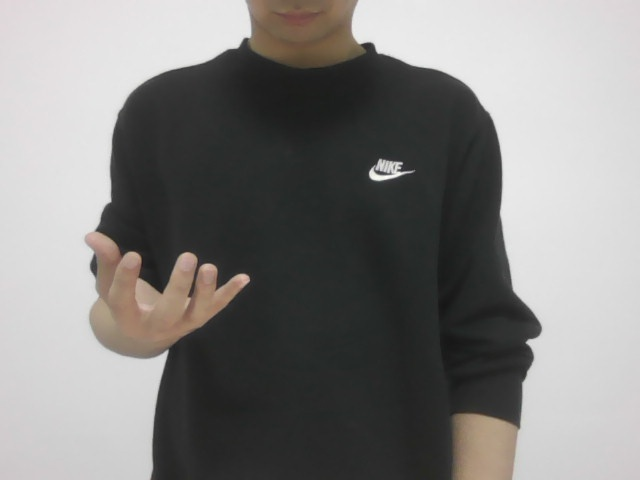flavor: (78, 240, 249, 352)
